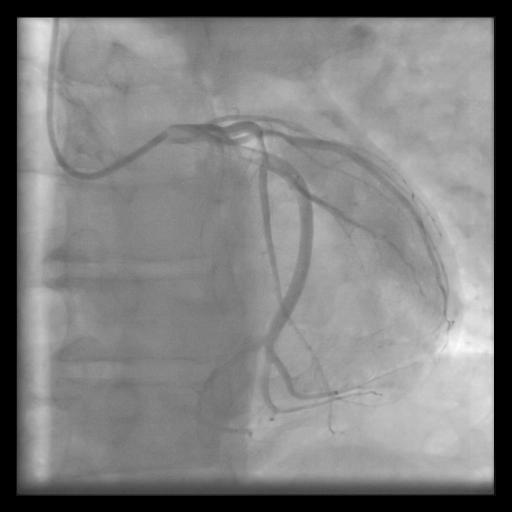Stenosis: (252, 130, 272, 161)
